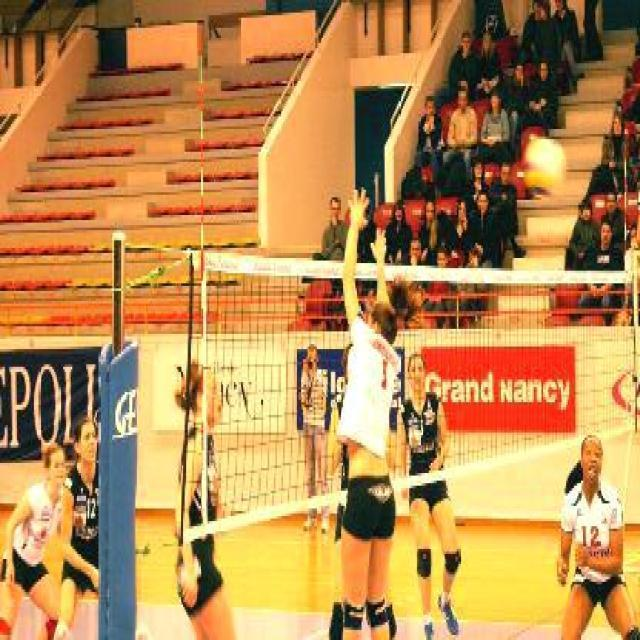volleyball: (522, 137, 564, 185)
